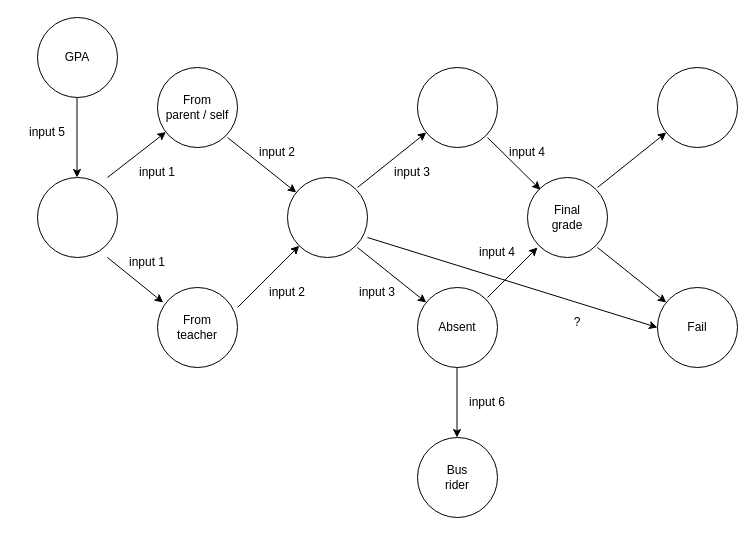
Some shapes in this 755 by 535 pixel diagram are drawn without their labels. Each missing label, with the centre of its shape:
"Enrolls in tutoring" goes at (x=327, y=217).
"Pass" goes at (x=697, y=107).
"Present" goes at (x=457, y=107).
"Tutoring Referral" goes at (x=77, y=217).
